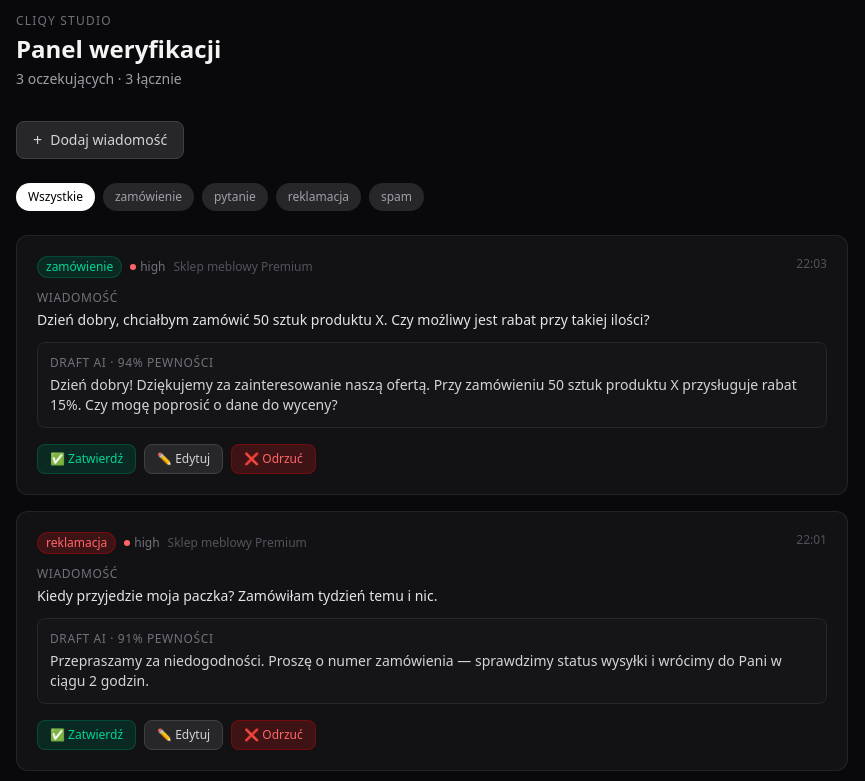
Test case: QueuePage › approve action › shows "Zatwierdzone" label and hides action buttons after approval
Click the button "✅ Zatwierdź" below "94" at (87, 459), box [37, 444, 136, 474]
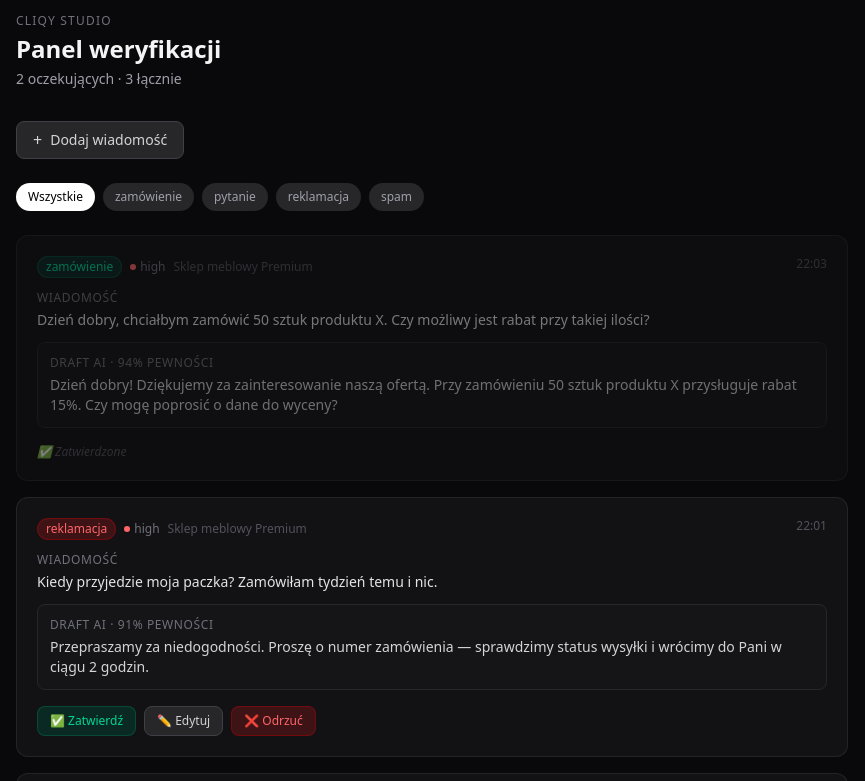
Expected: the text "✅ Zatwierdzone" is shown, [37, 443, 126, 460]
